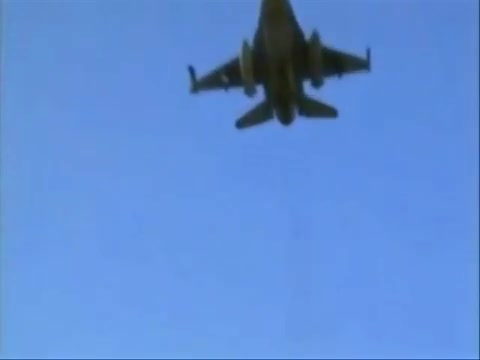aeroplane: (187, 2, 373, 131)
